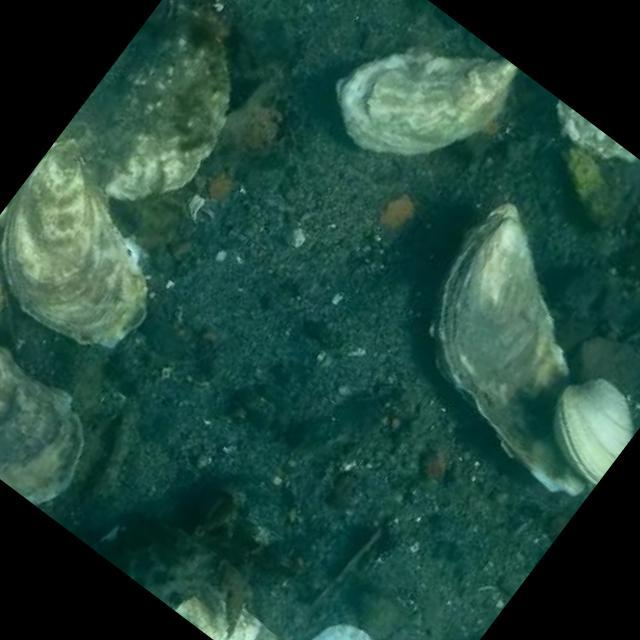Oyster- Indeterminate: (432, 202, 585, 494), (56, 3, 227, 199), (0, 138, 147, 347), (335, 52, 517, 154), (0, 340, 83, 506), (175, 589, 277, 640)
